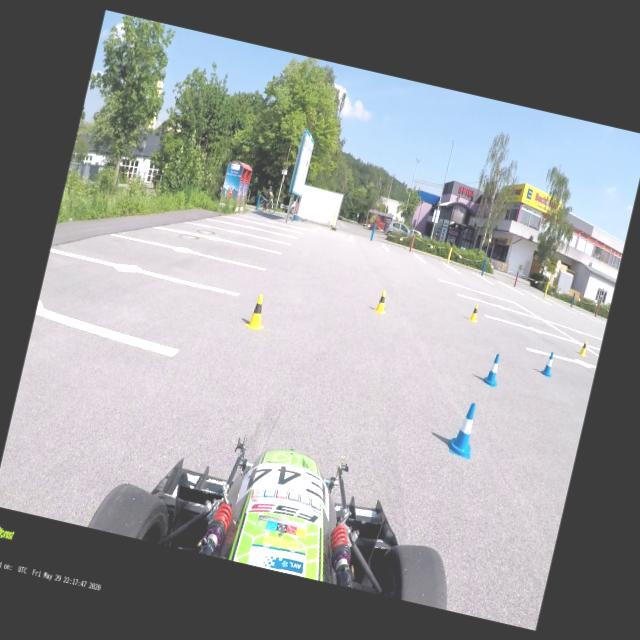blue_cone: (445, 399, 482, 459), (480, 352, 503, 388), (540, 350, 556, 378)
yellow_cone: (243, 292, 270, 332), (372, 289, 390, 315), (468, 303, 480, 323), (578, 339, 589, 357)
